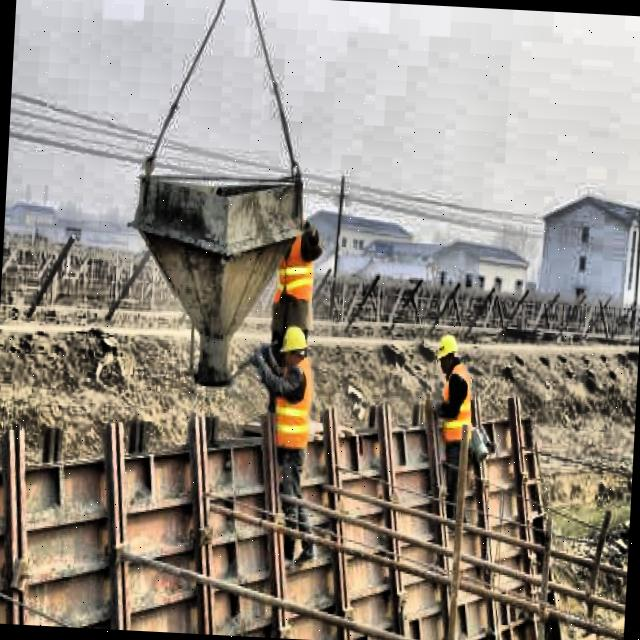helmet: (278, 319, 310, 370), (434, 331, 462, 376)
